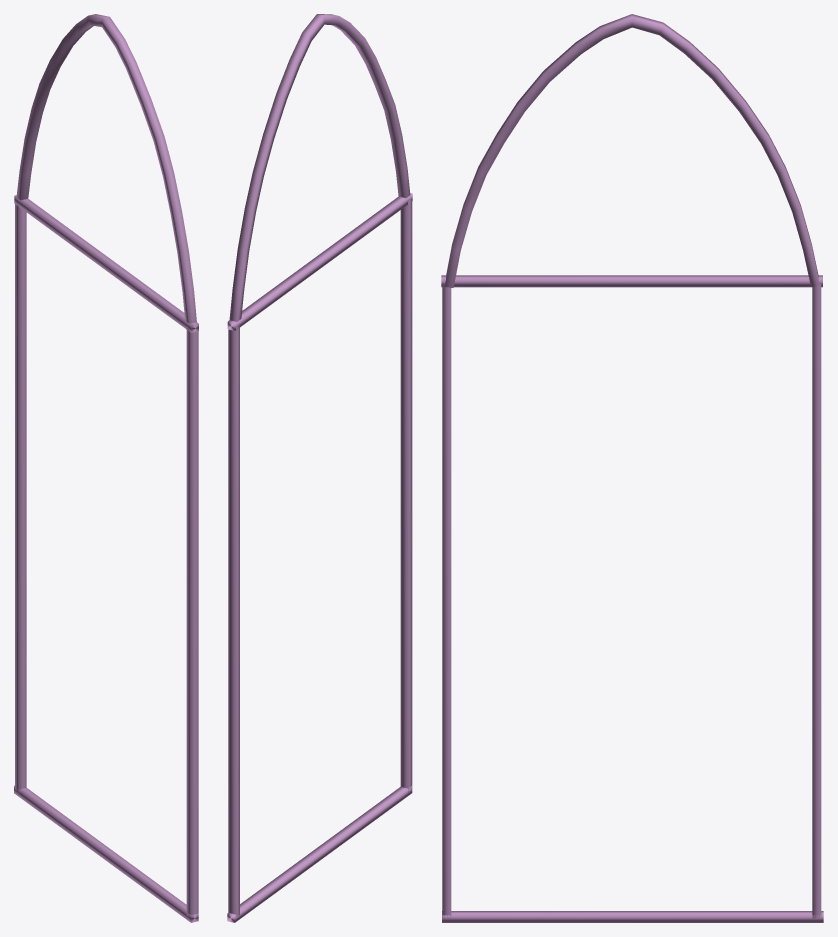
The model's file is StainedGlass_Metal_x1_Lod0.fbx.
3 renders of one model, left to right at view 1: azimuth 30°, elevation 25°; view 2: azimuth 150°, elevation 25°; view 3: azimuth 270°, elevation 25°, orthographic. The views are drawn at different scales.
Parts seen in each view (by area): view 1: StainedGlass_Metal_x1_Lod0; view 2: StainedGlass_Metal_x1_Lod0; view 3: StainedGlass_Metal_x1_Lod0.
Boxes of the visible parts, x1,y1,x2,y2 form: StainedGlass_Metal_x1_Lod0: (14,14,198,922); StainedGlass_Metal_x1_Lod0: (227,14,412,922); StainedGlass_Metal_x1_Lod0: (441,14,823,922).
Bounding box in the file's own units: 4.93 × 427 × 163.
